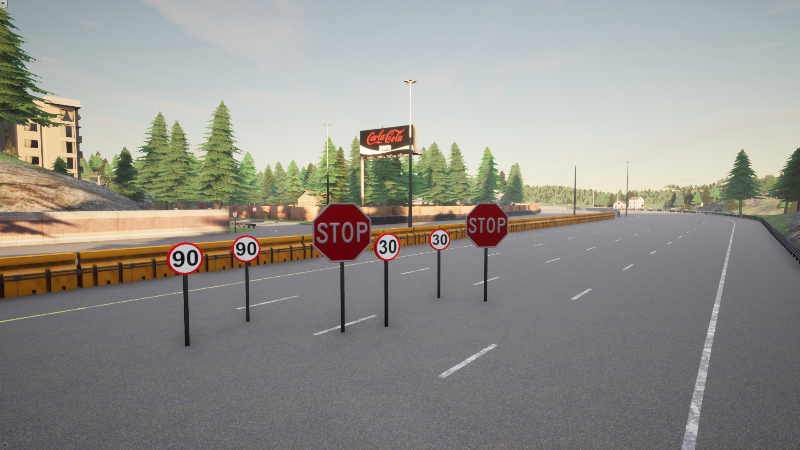fast: (167, 242, 203, 275), (233, 236, 260, 262)
slow: (374, 233, 400, 261), (429, 229, 451, 251)
stop: (313, 203, 371, 262), (467, 204, 509, 247)
